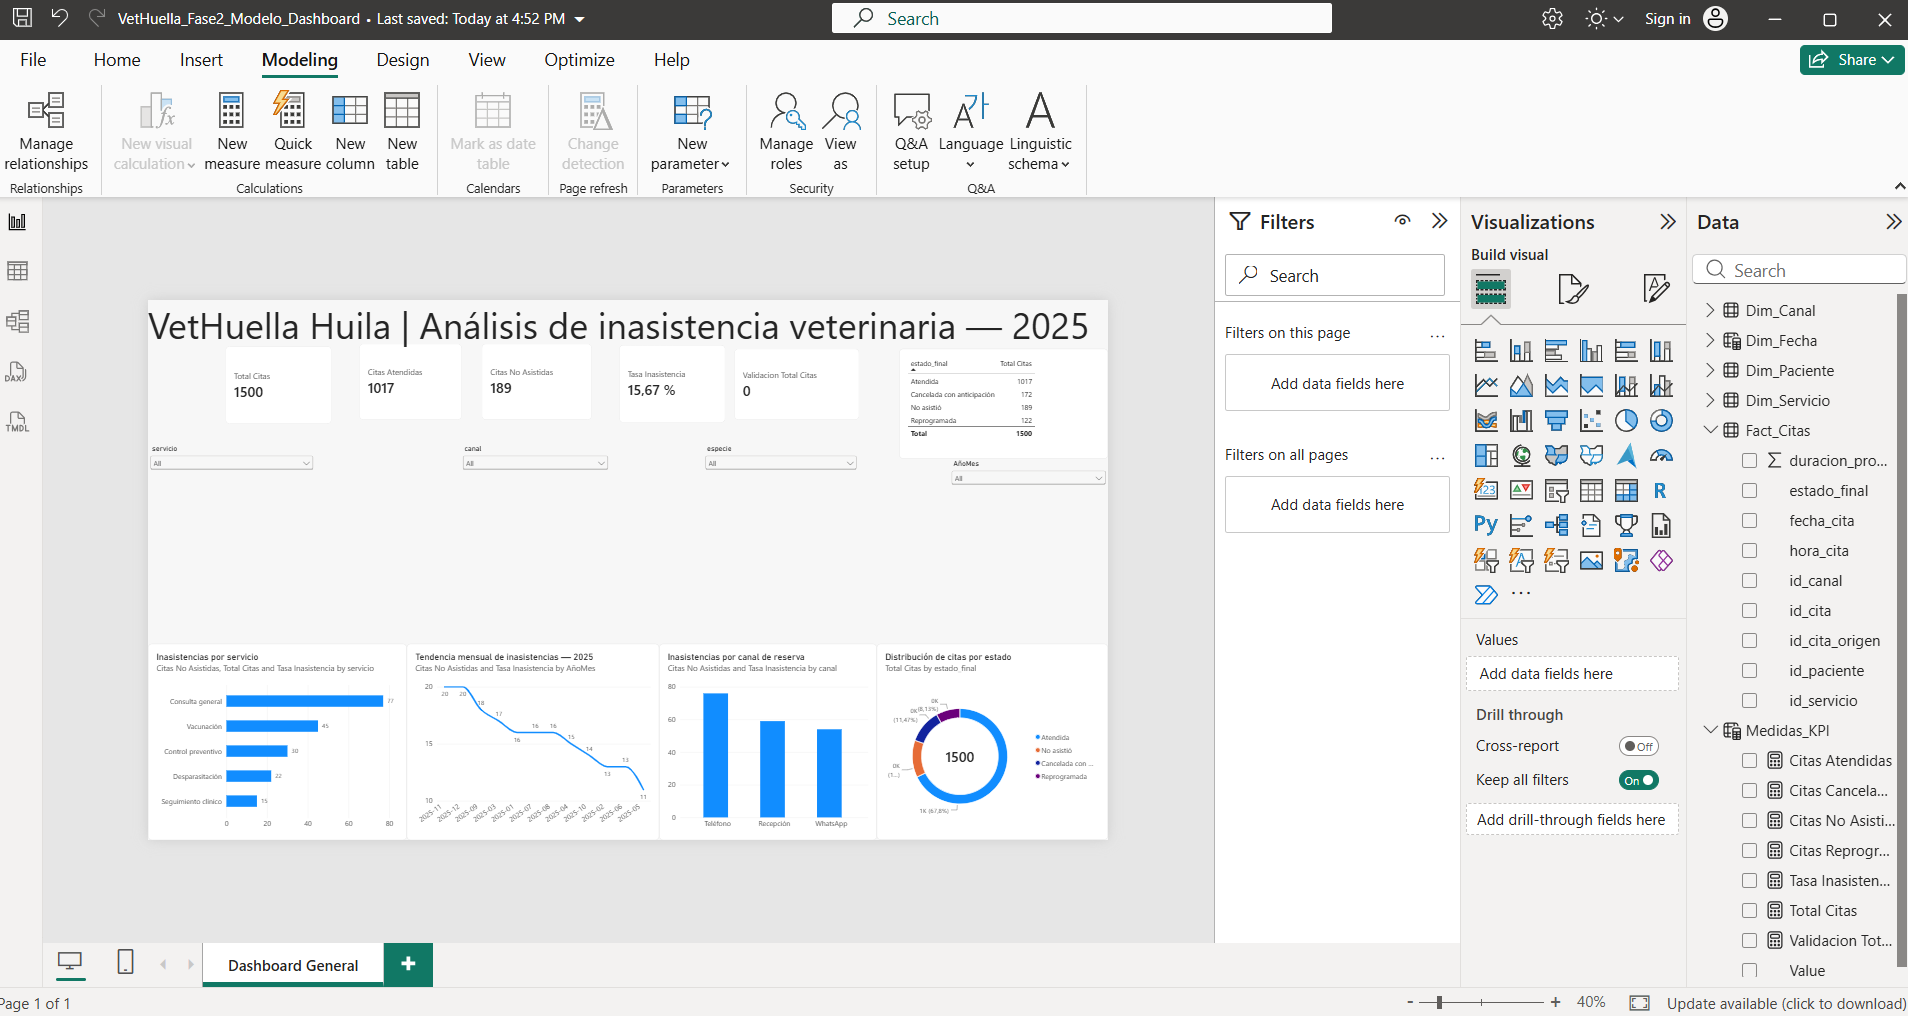

This screenshot's page, from the dashboard's own definition file:
{"tool":"powerbi","page":{"name":"Dashboard General","canvas":[1920,1080],"ordinal":0},"visuals":[{"type":"cardVisual","fields":{"Data":["Medidas_KPI.Total Citas"]},"box":[155,92.5,212.5,155],"z":0},{"type":"cardVisual","fields":{"Data":["Medidas_KPI.Citas Atendidas"]},"box":[422.5,87.5,205,152.5],"z":1000},{"type":"cardVisual","fields":{"Data":["Medidas_KPI.Citas No Asistidas"]},"box":[667.5,87.5,220,152.5],"z":2000},{"type":"cardVisual","fields":{"Data":["Medidas_KPI.Tasa Inasistencia"]},"box":[942.5,90,212.5,155],"z":3000},{"type":"cardVisual","fields":{"Data":["Medidas_KPI.Validacion Total Citas"]},"box":[1172.5,97.5,250,142.5],"z":4000},{"type":"tableEx","fields":{"Values":["Fact_Citas.estado_final","Medidas_KPI.Total Citas"]},"box":[1502.5,97.5,417.5,220],"z":5000},{"type":"clusteredBarChart","title":"Inasistencias por servicio","fields":{"Category":["Dim_Servicio.servicio"],"Y":["Medidas_KPI.Citas No Asistidas"]},"box":[0,687.5,517.5,392.5],"z":6000},{"type":"lineChart","title":"Tendencia mensual de inasistencias — 2025","fields":{"Category":["Dim_Fecha.AñoMes"],"Y":["Medidas_KPI.Citas No Asistidas"]},"box":[510,687,505,392.5],"z":7000},{"type":"clusteredColumnChart","title":"Inasistencias por canal de reserva","fields":{"Category":["Dim_Canal.canal"],"Y":["Medidas_KPI.Citas No Asistidas"]},"box":[1022.5,687.5,435,392.5],"z":8000},{"type":"donutChart","title":"Distribución de citas por estado","fields":{"Category":["Fact_Citas.estado_final"],"Y":["Medidas_KPI.Total Citas"]},"box":[1458,688,462,392],"z":9000},{"type":"slicer","fields":{"Values":["Dim_Servicio.servicio"]},"box":[0,287.5,335,322.5],"z":10000},{"type":"slicer","fields":{"Values":["Dim_Canal.canal"]},"box":[625,287.5,300,322.5],"z":11000},{"type":"slicer","fields":{"Values":["Dim_Paciente.especie"]},"box":[1110,287.5,312.5,322.5],"z":12000},{"type":"slicer","fields":{"Values":["Dim_Fecha.AñoMes"]},"box":[1602.5,317.5,317.5,322.5],"z":13000},{"type":"textbox","box":[0,0,1920,97.5],"z":14000}]}

Visuals, with their boxes on the page's 1920x1080 design canvas (x1, y1, x2, y2). These are canvas units, not pixel positions in the 1908x1016 screenshot, which may show the page scaled, cropped or inside an application window:
cardVisual - Medidas_KPI.Total Citas: x1=155, y1=92, x2=368, y2=248
cardVisual - Medidas_KPI.Citas Atendidas: x1=422, y1=88, x2=628, y2=240
cardVisual - Medidas_KPI.Citas No Asistidas: x1=668, y1=88, x2=888, y2=240
cardVisual - Medidas_KPI.Tasa Inasistencia: x1=942, y1=90, x2=1155, y2=245
cardVisual - Medidas_KPI.Validacion Total Citas: x1=1172, y1=98, x2=1422, y2=240
tableEx - Fact_Citas.estado_final x Medidas_KPI.Total Citas: x1=1502, y1=98, x2=1920, y2=318
"Inasistencias por servicio" clusteredBarChart: x1=0, y1=688, x2=518, y2=1080
"Tendencia mensual de inasistencias — 2025" lineChart: x1=510, y1=687, x2=1015, y2=1080
"Inasistencias por canal de reserva" clusteredColumnChart: x1=1022, y1=688, x2=1458, y2=1080
"Distribución de citas por estado" donutChart: x1=1458, y1=688, x2=1920, y2=1080
slicer - Dim_Servicio.servicio: x1=0, y1=288, x2=335, y2=610
slicer - Dim_Canal.canal: x1=625, y1=288, x2=925, y2=610
slicer - Dim_Paciente.especie: x1=1110, y1=288, x2=1422, y2=610
slicer - Dim_Fecha.AñoMes: x1=1602, y1=318, x2=1920, y2=640
textbox: x1=0, y1=0, x2=1920, y2=98
